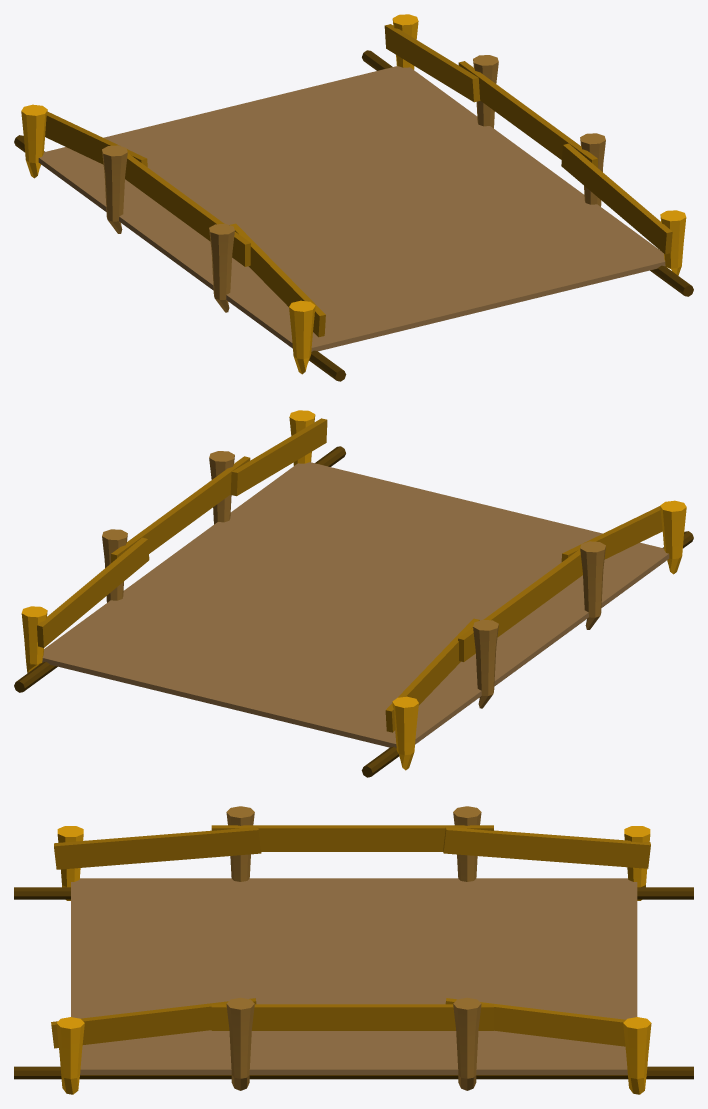
The model's file is StoneBridge.fbx.
The picture shows the model from 3 angles, top to bottom: view 1: azimuth 30°, elevation 25°; view 2: azimuth 150°, elevation 25°; view 3: azimuth 270°, elevation 25°; orthographic projection. The views are drawn at different scales.
Parts seen in each view (by area): view 1: StoneBridge; view 2: StoneBridge; view 3: StoneBridge.
Part boxes in pixels (x1,y1,x2,y2): StoneBridge: [14, 14, 693, 381]; StoneBridge: [14, 410, 693, 777]; StoneBridge: [14, 806, 693, 1094].
Bounding box in the file's own units: 8.5 × 1.75 × 12.
